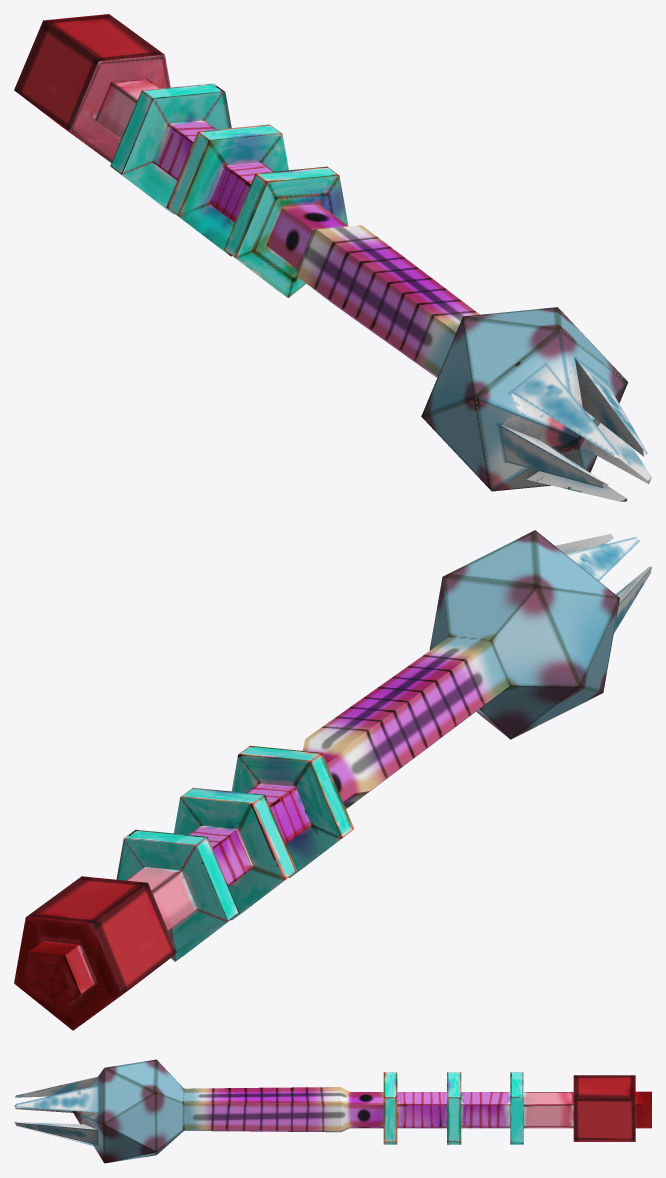
File: StunGun.fbx
The picture shows the model from 3 angles, top to bottom: view 1: azimuth 30°, elevation 25°; view 2: azimuth 150°, elevation 25°; view 3: azimuth 270°, elevation 25°; orthographic projection. The views are drawn at different scales.
Parts seen in each view (by area): view 1: StunGun_LOD0; view 2: StunGun_LOD0; view 3: StunGun_LOD0.
Boxes of the visible parts, x1,y1,x2,y2 form: StunGun_LOD0: (14, 14, 651, 501); StunGun_LOD0: (14, 530, 651, 1030); StunGun_LOD0: (14, 1059, 651, 1163).
Bounding box in the file's own units: 81.02 × 81.59 × 504.
1 material, 1 textured.
